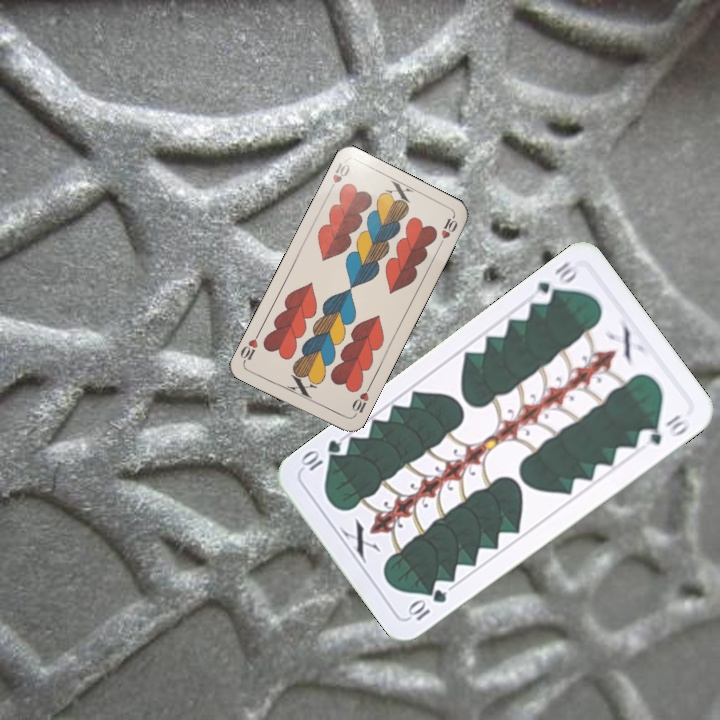G10: (527, 256, 582, 308), (404, 585, 450, 624)
H10: (324, 158, 352, 196), (348, 382, 373, 420)
